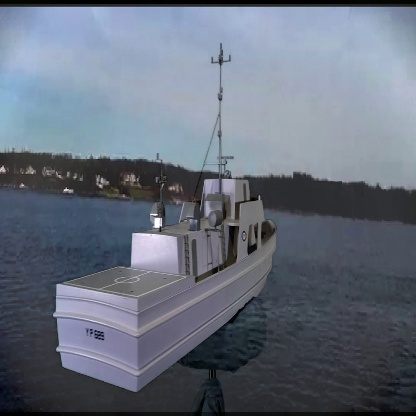YP689: (53, 42, 278, 398)
